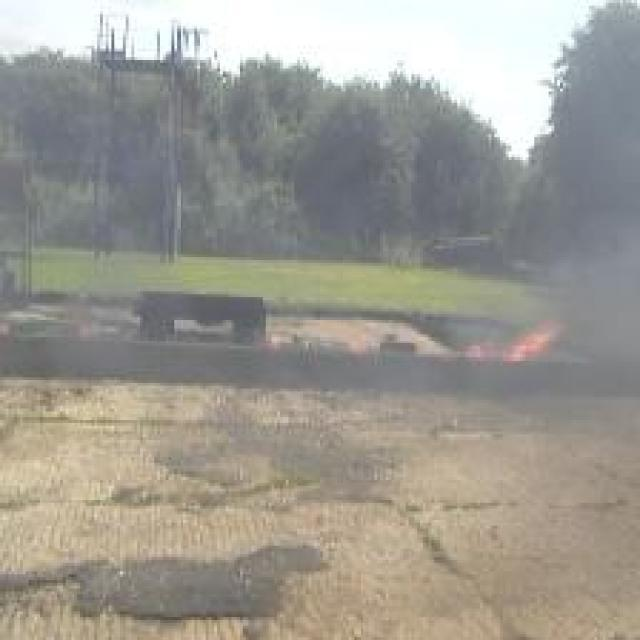Fire: (467, 323, 562, 363)
